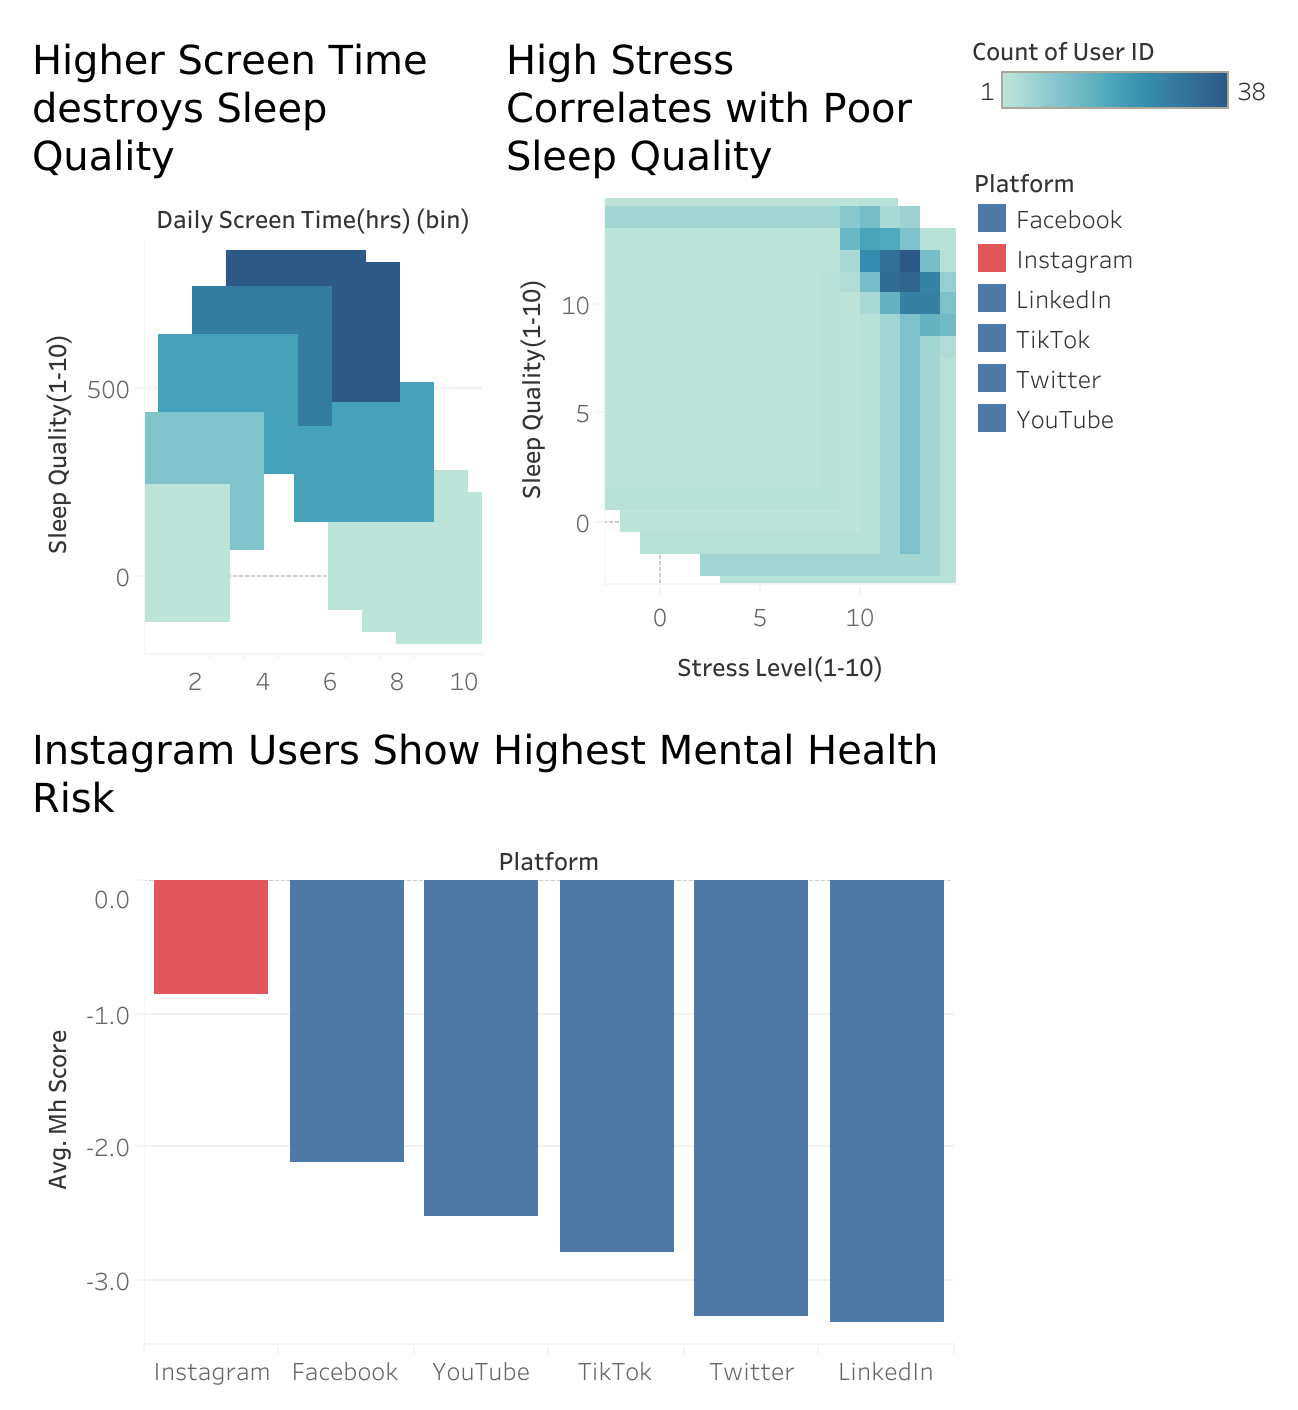

The page's visual inventory and layout, read from the dashboard file:
{"tool":"tableau","page":{"name":"Dashboard 1","canvas":[1000,1000],"units":"permille","ordinal":0},"visuals":[{"type":"worksheet","title":"Screen Time vs Sleep Quality","mark":"Square","rows":["Sleep_Quality(1-10)"],"cols":["Daily Screen Time(hrs) (bin)"],"box":[6.4,10.1,446,489.9]},{"type":"worksheet","title":"High Stress vs Poor Sleep","mark":"Square","rows":["Sleep_Quality(1-10)"],"cols":["Stress_Level(1-10)"],"box":[452.3,10.1,446,489.9]},{"type":"legend","title":"High Stress vs Poor Sleep","param":"[federated.0n17veo1oo3v9d16ktf5f0f5al2v].[cnt:User_ID:qk]","box":[898.3,10.1,95.3,82.2]},{"type":"legend","title":"MH by Platform","param":"[federated.0n17veo1oo3v9d16ktf5f0f5al2v].[none:Calculation_160088902097272832:nk","box":[898.3,92.3,95.3,184.6]},{"type":"worksheet","title":"MH by Platform","mark":"Automatic","rows":["mh_score"],"cols":["Calculation_160088902097272832"],"box":[6.4,500,892,489.9]}]}

Visuals, with their boxes on the dashboard's canvas, which has no fixed pixel size, in thousandths of its width and height (x1, y1, x2, y2). These are canvas units, not pixel positions in the 1298x1410 screenshot, which may show the page scaled, cropped or inside an application window:
"Screen Time vs Sleep Quality" worksheet (Square marks): 6:10:452:500
"High Stress vs Poor Sleep" worksheet (Square marks): 452:10:898:500
"High Stress vs Poor Sleep" legend: 898:10:994:92
"MH by Platform" legend: 898:92:994:277
"MH by Platform" worksheet: 6:500:898:990
